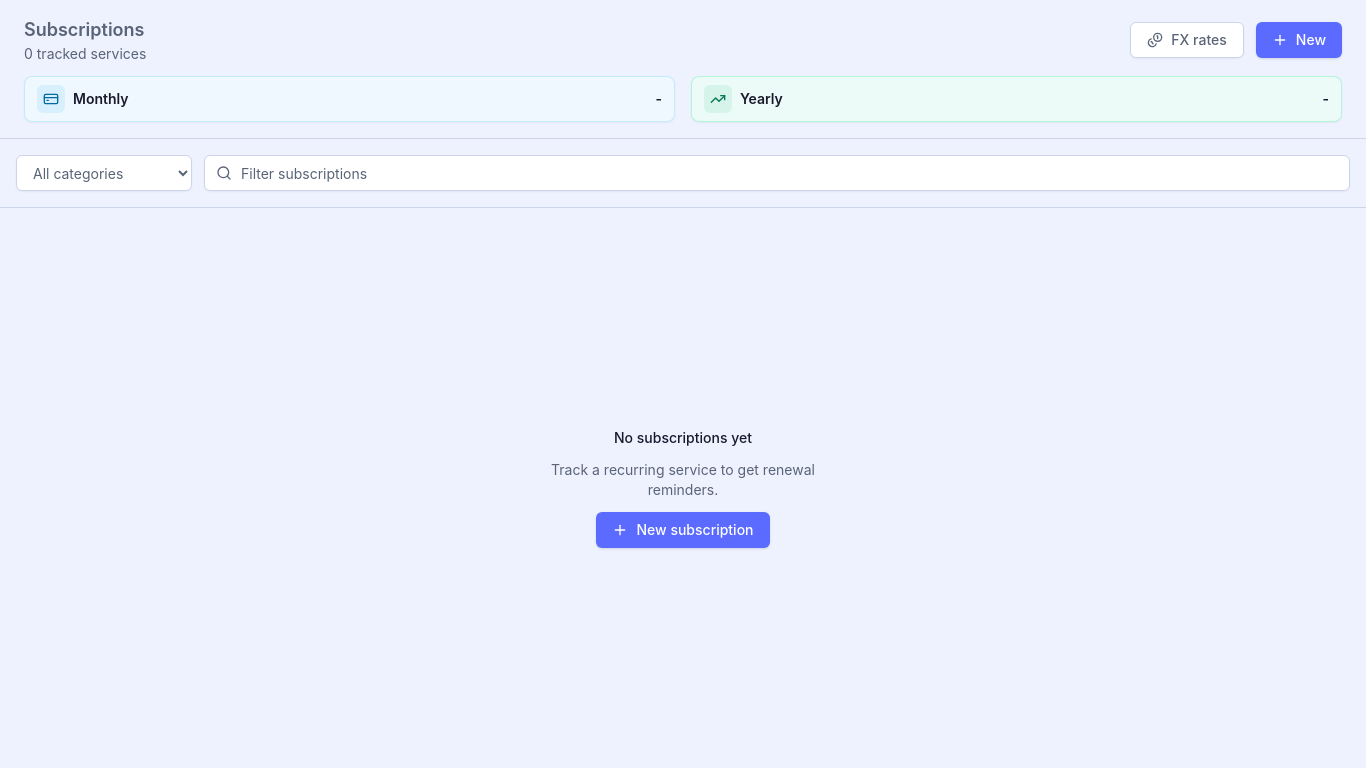
Test: SubscriptionsListView › validates required fields before saving
Click the button "New". click: coordinates (1299, 40)
box: [1256, 22, 1342, 58]
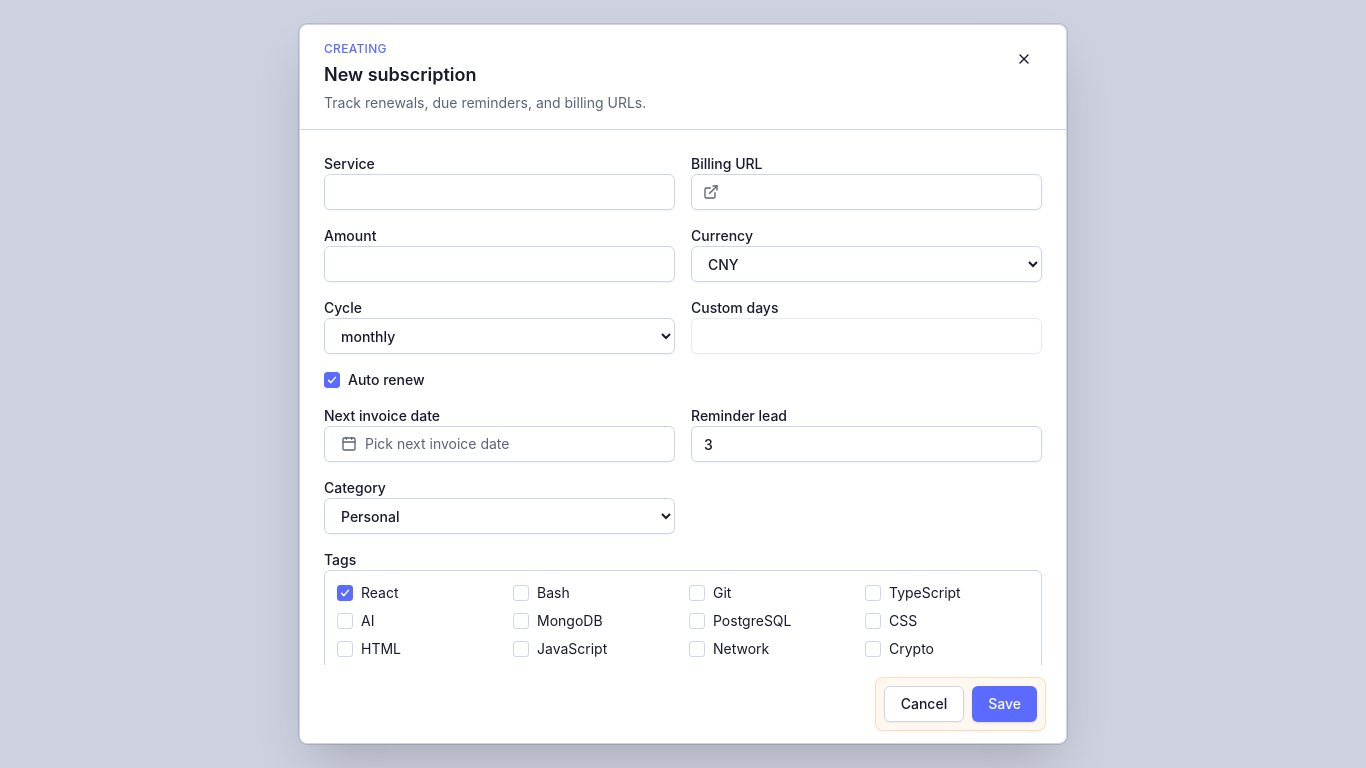
Click the button "Save". click: coordinates (1005, 704)
box: [972, 686, 1037, 722]
(page scrolled)
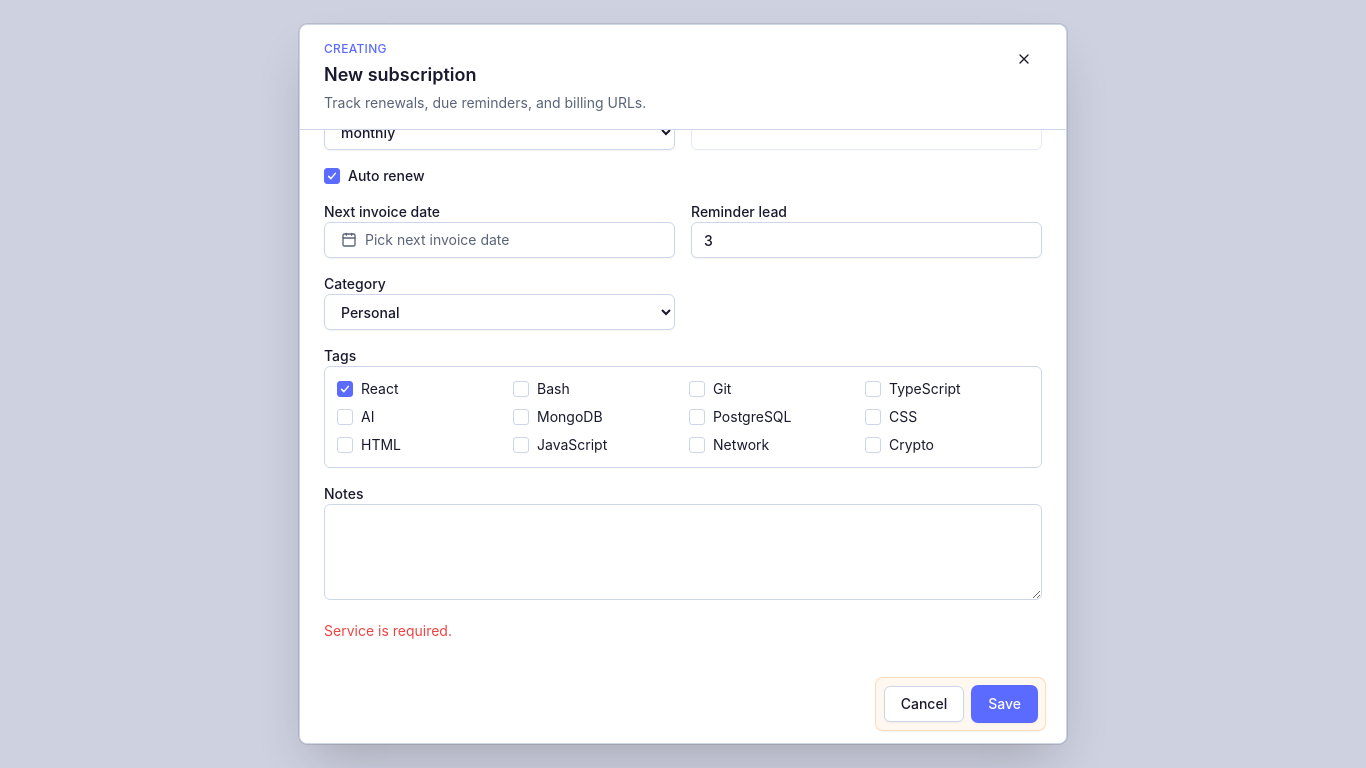
Result: the text "Service is required." is shown at [324, 622, 452, 639]
